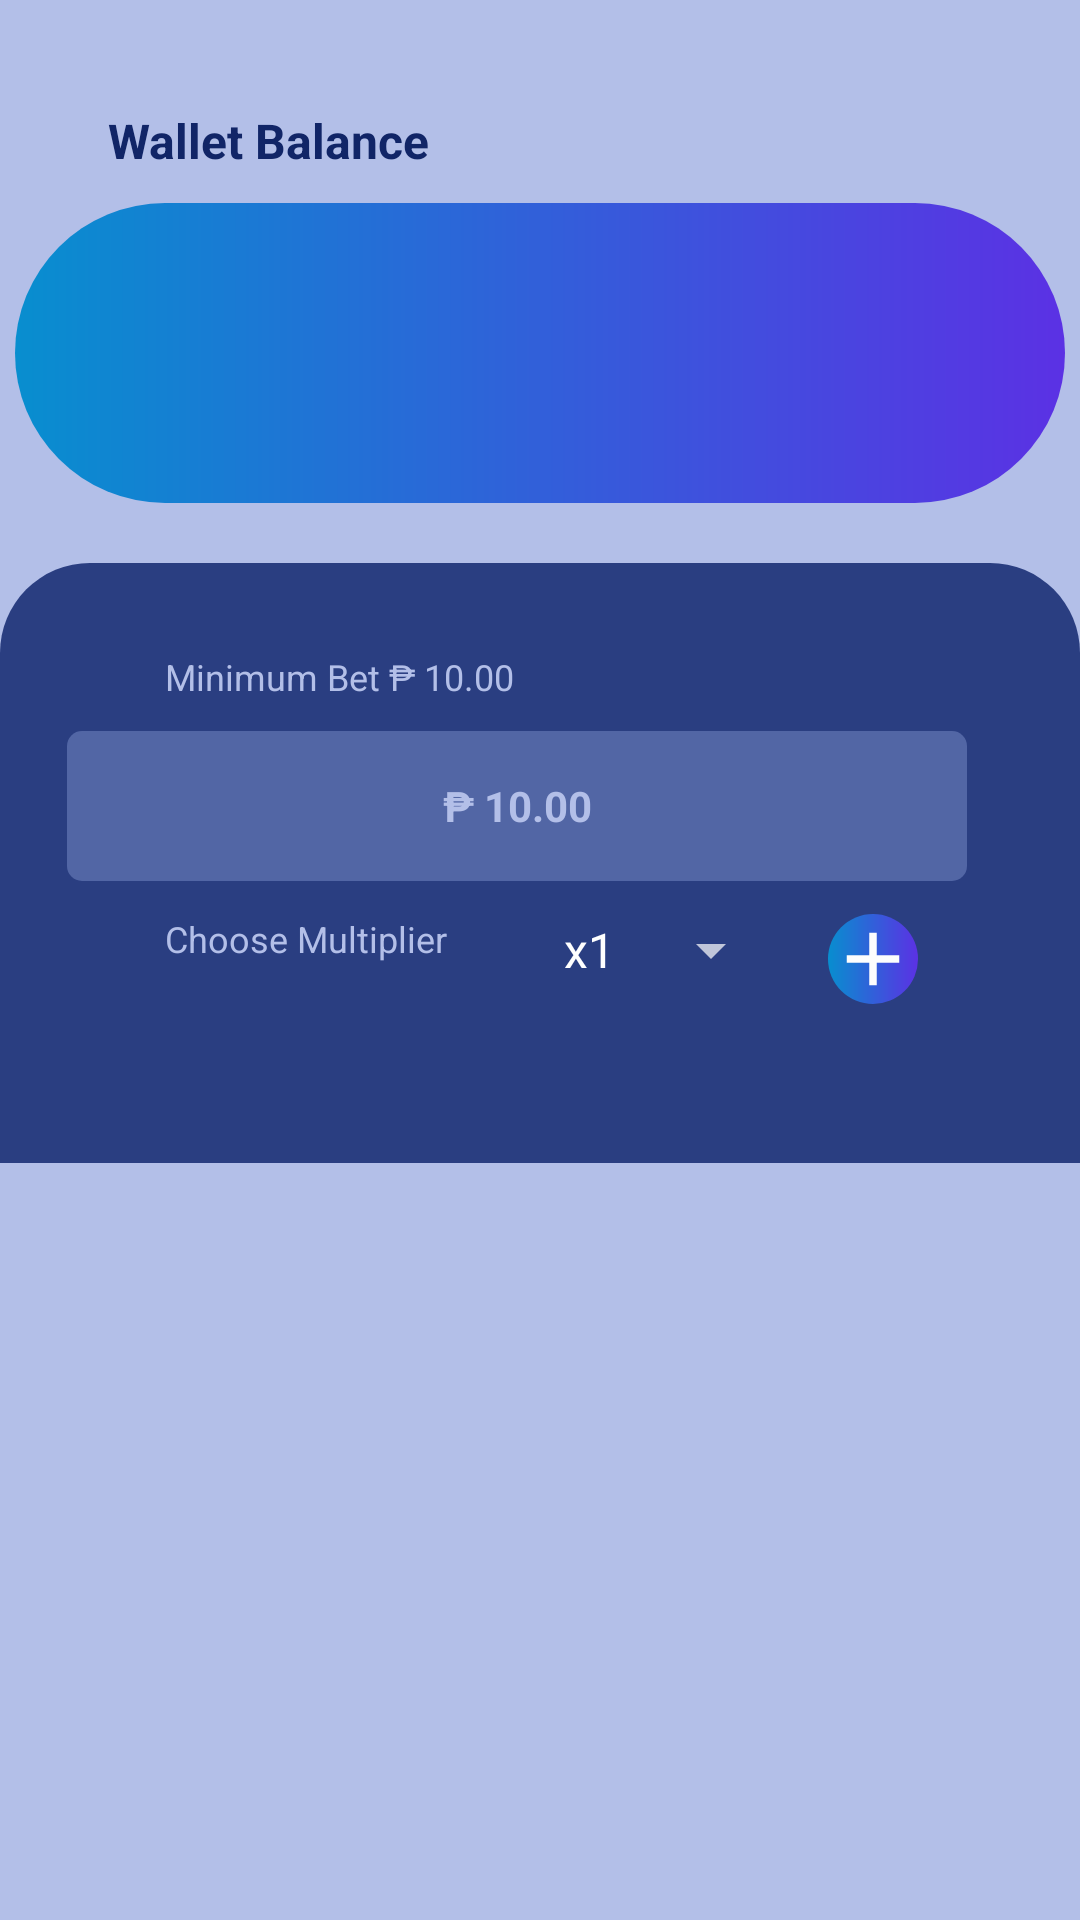

Point at icon controls on the screen. Image size 1080 x 1920, points as point (x, y).
plus: point (873, 959)
